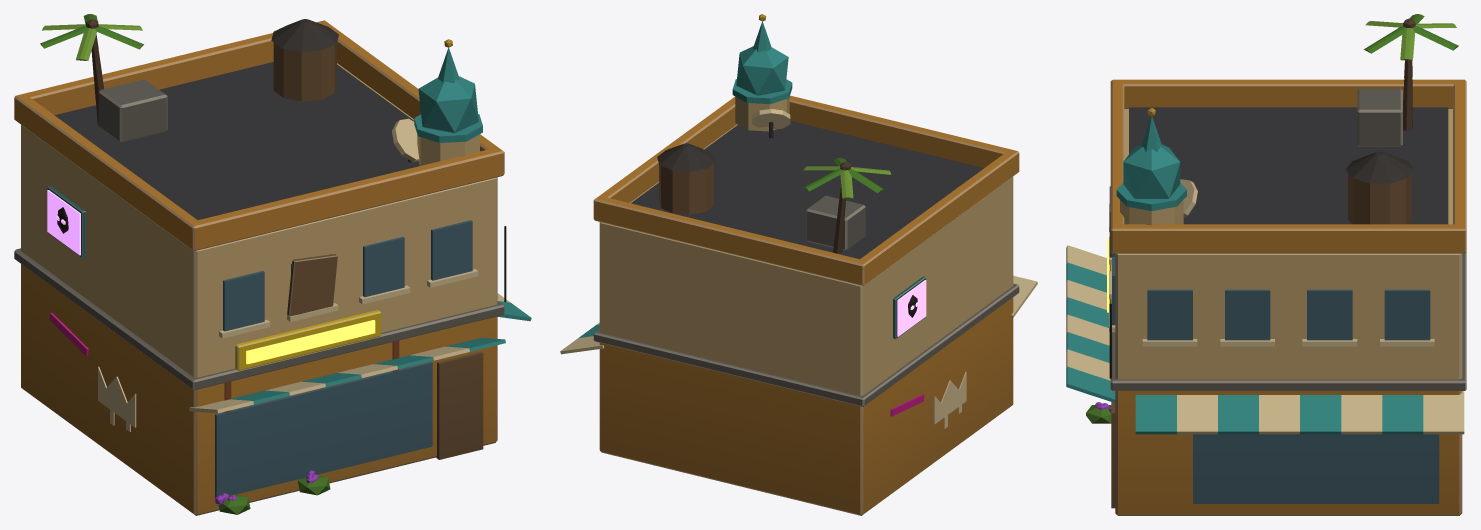
Rendered from n_shop.glb.
3 views of the same model, side by side, from view 1: azimuth 30°, elevation 25°; view 2: azimuth 150°, elevation 25°; view 3: azimuth 270°, elevation 25° (orthographic). The views are drawn at different scales.
Parts seen in each view (by area): view 1: n_shop; view 2: n_shop; view 3: n_shop.
Part boxes in pixels (x1=…): n_shop: x1=14, y1=14, x2=531, y2=515; n_shop: x1=560, y1=14, x2=1037, y2=515; n_shop: x1=1066, y1=14, x2=1466, y2=515.
Size of the model in its own units: 8.94 by 9.52 by 8.77.
